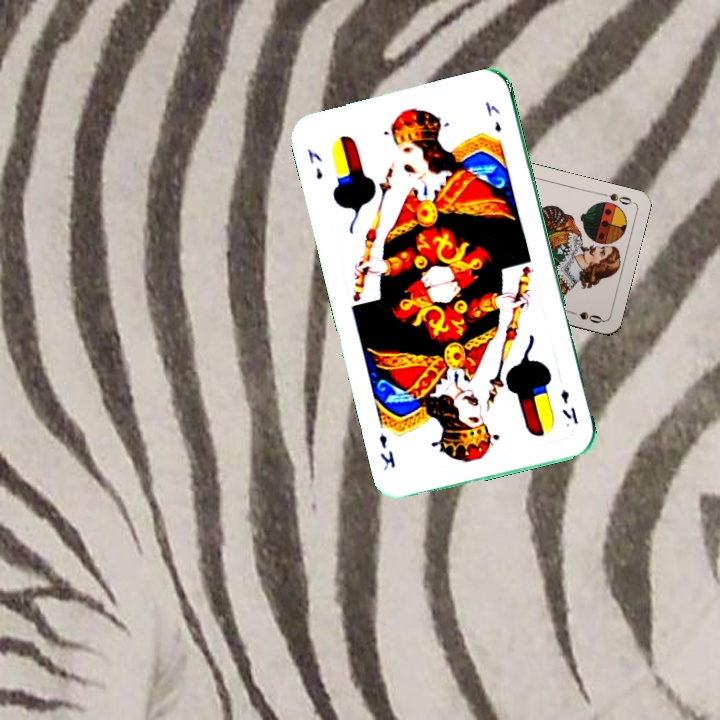EK: (556, 385, 581, 427), (303, 144, 325, 182)
SO: (595, 189, 635, 207)
